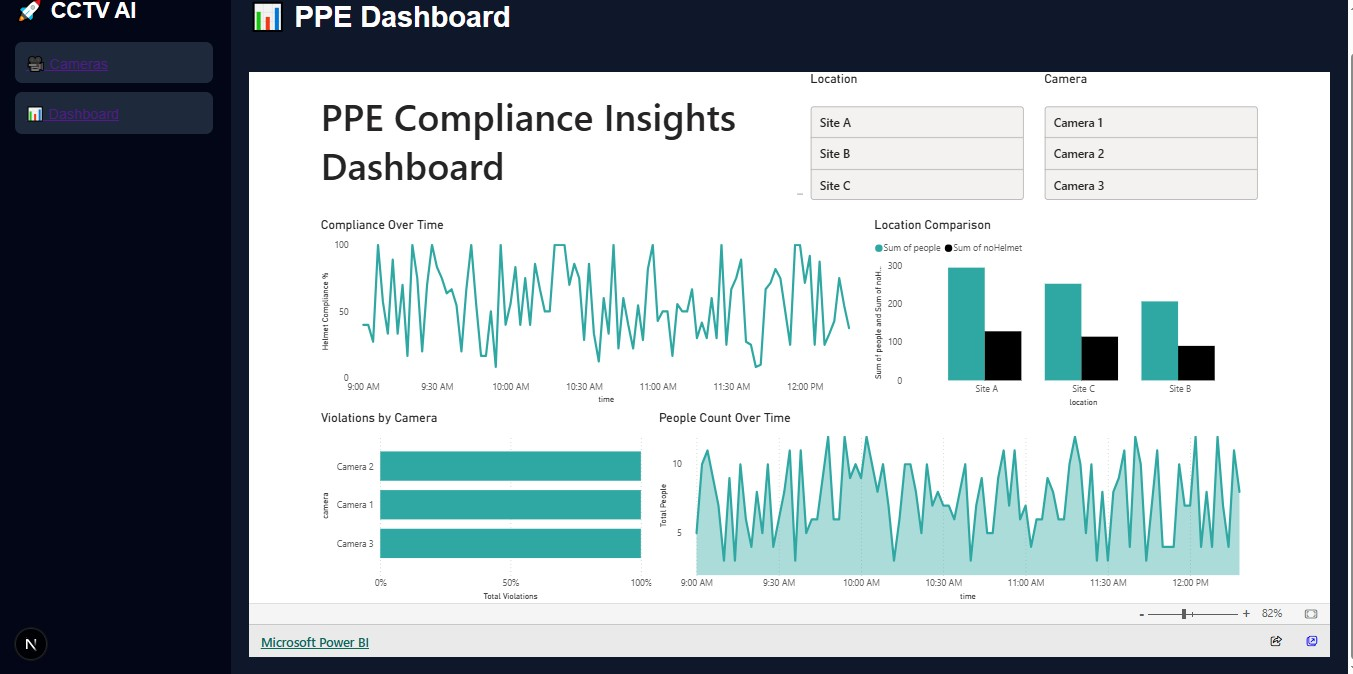

What the dashboard file says about the page in this screenshot:
{"tool":"powerbi","page":{"name":"Page 1","canvas":[1280,720],"ordinal":0},"visuals":[{"type":"lineChart","title":"Compliance Over Time","fields":{"Category":["PPE_Data.time"],"Y":["PPE_Data.Helmet Compliance %"]},"box":[0,198.2,750.9,257],"z":0},{"type":"clusteredColumnChart","title":"Location Comparison","fields":{"Category":["PPE_Data.location"],"Y":["Sum(PPE_Data.people)","Sum(PPE_Data.noHelmet)"]},"box":[750.9,198.2,529.1,260.4],"z":1000},{"type":"hundredPercentStackedBarChart","title":"Violations by Camera","fields":{"Category":["PPE_Data.camera"],"Y":["PPE_Data.Total Violations"]},"box":[0,458.6,458.6,262],"z":2000},{"type":"areaChart","title":"People Count Over Time","fields":{"Category":["PPE_Data.time"],"Y":["PPE_Data.Total People"]},"box":[458.6,458.6,821.4,262],"z":3000},{"type":"cardVisual","title":"Location","fields":{"Rows":["PPE_Data.location"]},"box":[663.5,0,299,198.2],"z":4000},{"type":"cardVisual","title":"Camera","fields":{"Rows":["PPE_Data.camera"]},"box":[981,0,299,198.2],"z":5000},{"type":"textbox","title":"PPE Compliance Insights Dashboard","box":[0,25.2,663.5,146.1],"z":6000}]}

Visuals, with their boxes on the page's 1280x720 design canvas (x1, y1, x2, y2). These are canvas units, not pixel positions in the 1353x674 screenshot, which may show the page scaled, cropped or inside an application window:
"Compliance Over Time" lineChart: BBox(0, 198, 751, 455)
"Location Comparison" clusteredColumnChart: BBox(751, 198, 1280, 459)
"Violations by Camera" hundredPercentStackedBarChart: BBox(0, 459, 459, 721)
"People Count Over Time" areaChart: BBox(459, 459, 1280, 721)
"Location" cardVisual: BBox(664, 0, 962, 198)
"Camera" cardVisual: BBox(981, 0, 1280, 198)
"PPE Compliance Insights Dashboard" textbox: BBox(0, 25, 664, 171)
